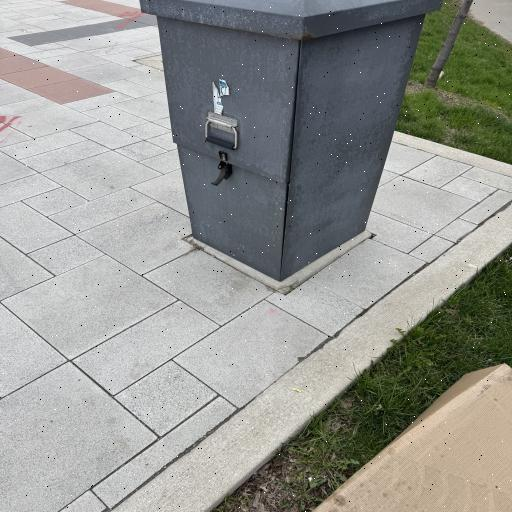Electrical Box: (141, 0, 445, 276)
